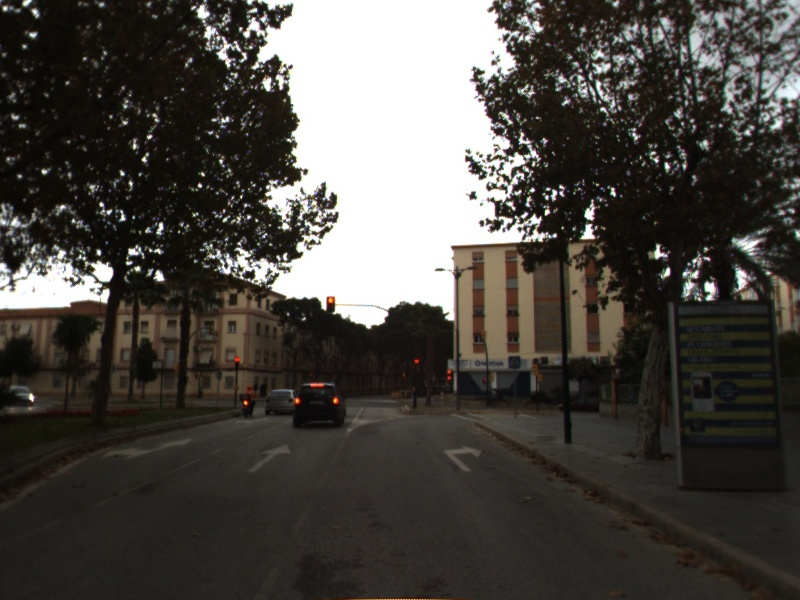RIGHT: (440, 443, 485, 474)
STRAIGHT: (245, 442, 293, 474)
STRAIGHT_LEFT: (99, 435, 196, 461)
